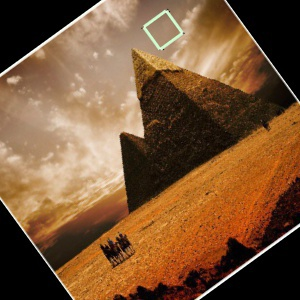square: (141, 8, 185, 52)
